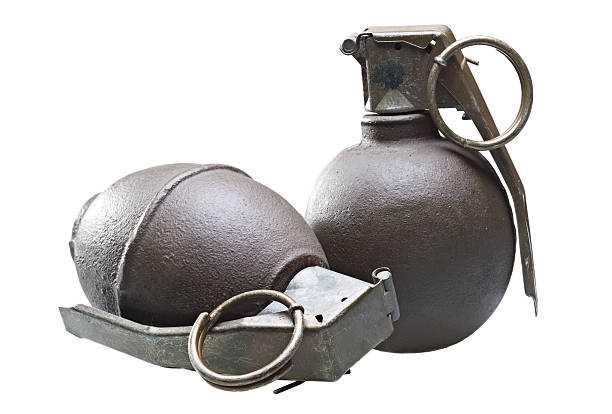e1: (61, 155, 397, 388)
